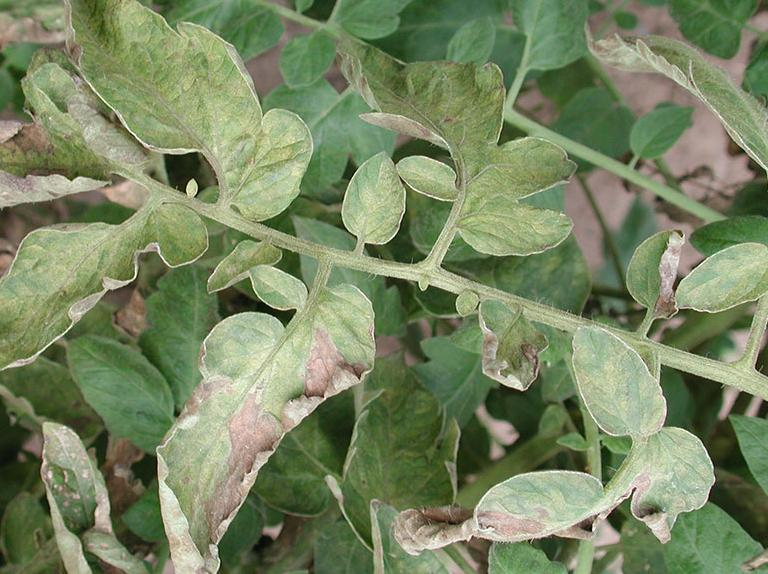Tomato mold leaf: (151, 281, 381, 574), (58, 0, 316, 229), (397, 436, 726, 568), (0, 200, 213, 389), (560, 316, 676, 440), (338, 150, 420, 250), (471, 294, 549, 394), (671, 233, 768, 312), (391, 151, 477, 205)
